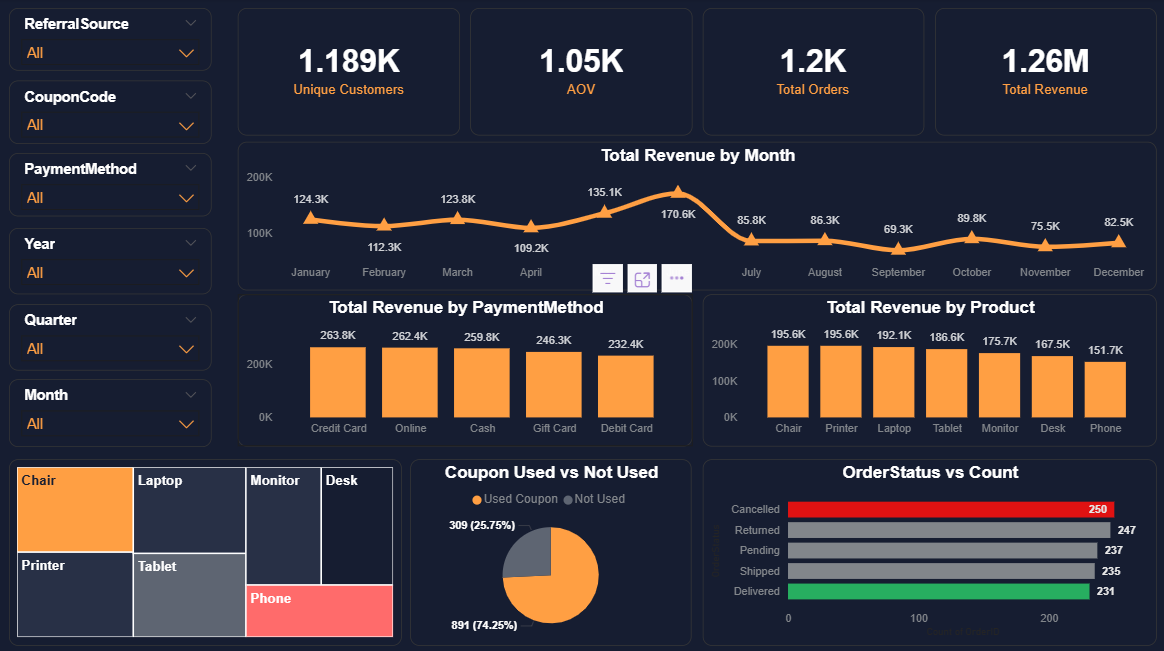

The dashboard page shown, as its layout file describes it:
{"tool":"powerbi","page":{"name":"Page ١","canvas":[1280,720],"ordinal":0},"visuals":[{"type":"cardVisual","fields":{"Data":["Measures_Table.Unique Customers"]},"box":[262.1,11,244.3,140],"z":0},{"type":"cardVisual","title":"Total Revenue","fields":{"Data":["Measures_Table.Total Revenue"]},"box":[1027.8,11,242.9,140],"z":1000},{"type":"cardVisual","fields":{"Data":["Measures_Table.Total Orders"]},"box":[772.6,11,242.9,140],"z":2000},{"type":"cardVisual","fields":{"Data":["Measures_Table.AOV"]},"box":[517.3,11,244.3,140],"z":3000},{"type":"lineChart","fields":{"Category":["sales.Month"],"Y":["Measures_Table.Total Revenue"]},"box":[262.1,157.8,1008.6,163.3],"z":4000},{"type":"slicer","fields":{"Values":["Dim-CouponCode.CouponCode"]},"box":[11,90.6,222.3,70],"z":5000},{"type":"clusteredColumnChart","fields":{"Y":["Measures_Table.Total Revenue"],"Category":["Dim-Product.Product"]},"box":[772.6,325.2,498.1,167.4],"z":6000},{"type":"clusteredColumnChart","fields":{"Y":["Measures_Table.Total Revenue"],"Category":["Dim-PaymentMethod.PaymentMethod"]},"box":[262.1,325.2,499.5,167.4],"z":7000},{"type":"clusteredBarChart","title":"OrderStatus vs Count","fields":{"Category":["Dim-OrderStatus.OrderStatus"],"Y":["CountNonNull(sales.OrderID)"]},"box":[772.6,506.3,498.1,204.5],"z":8000},{"type":"pieChart","title":"Coupon Used vs Not Used","fields":{"Category":["sales.UsedCoupon"],"Y":["CountNonNull(sales.OrderID)"]},"box":[451.5,506.3,308.7,204.5],"z":9000},{"type":"slicer","fields":{"Values":["Dim-PaymentMethod.PaymentMethod"]},"box":[11,170.2,222.3,70],"z":10000},{"type":"slicer","fields":{"Values":["Dim-ReferralSource.ReferralSource"]},"box":[11,11,222.3,68.6],"z":11000},{"type":"slicer","fields":{"Values":["Dim-Date.Date.Variation.Date Hierarchy.Year"]},"box":[11,252.5,222.3,72.7],"z":12000},{"type":"slicer","fields":{"Values":["Dim-Date.Date.Variation.Date Hierarchy.Quarter"]},"box":[11,336.2,222.3,72.7],"z":13000},{"type":"slicer","fields":{"Values":["Dim-Date.Date.Variation.Date Hierarchy.Month"]},"box":[11,418.5,222.3,74.1],"z":14000},{"type":"treemap","title":"Product","fields":{"Group":["Dim-Product.Product"],"Values":["Measures_Table.Total Revenue"]},"box":[11,506.3,430.9,204.5],"z":15000}]}

Visuals, with their boxes in screenshot pixels (x1, y1, x2, y2), scaled from the page's 1280x720 canvas onto the 1164x651 screenshot:
cardVisual - Measures_Table.Unique Customers: [238, 10, 461, 137]
"Total Revenue" cardVisual: [935, 10, 1156, 137]
cardVisual - Measures_Table.Total Orders: [703, 10, 923, 137]
cardVisual - Measures_Table.AOV: [470, 10, 693, 137]
lineChart - sales.Month x Measures_Table.Total Revenue: [238, 143, 1156, 290]
slicer - Dim-CouponCode.CouponCode: [10, 82, 212, 145]
clusteredColumnChart - Measures_Table.Total Revenue x Dim-Product.Product: [703, 294, 1156, 445]
clusteredColumnChart - Measures_Table.Total Revenue x Dim-PaymentMethod.PaymentMethod: [238, 294, 693, 445]
"OrderStatus vs Count" clusteredBarChart: [703, 458, 1156, 643]
"Coupon Used vs Not Used" pieChart: [411, 458, 691, 643]
slicer - Dim-PaymentMethod.PaymentMethod: [10, 154, 212, 217]
slicer - Dim-ReferralSource.ReferralSource: [10, 10, 212, 72]
slicer - Dim-Date.Date.Variation.Date Hierarchy.Year: [10, 228, 212, 294]
slicer - Dim-Date.Date.Variation.Date Hierarchy.Quarter: [10, 304, 212, 370]
slicer - Dim-Date.Date.Variation.Date Hierarchy.Month: [10, 378, 212, 445]
"Product" treemap: [10, 458, 402, 643]
